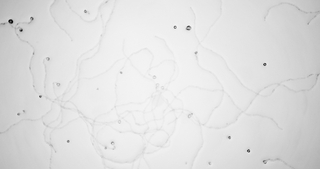germinated: (186, 111, 195, 120), (262, 157, 272, 164), (42, 55, 50, 63), (53, 80, 61, 88), (26, 16, 34, 24), (109, 140, 117, 148), (15, 25, 24, 32), (193, 50, 200, 58), (153, 82, 159, 91), (115, 116, 122, 123), (149, 73, 157, 79)
nongerminated: (7, 18, 14, 26), (184, 24, 191, 31), (245, 147, 251, 155), (261, 61, 268, 67), (206, 159, 213, 165), (37, 93, 44, 99), (15, 110, 21, 117), (226, 133, 232, 139), (172, 24, 178, 30), (82, 8, 88, 14), (65, 138, 71, 144), (21, 108, 27, 114)
